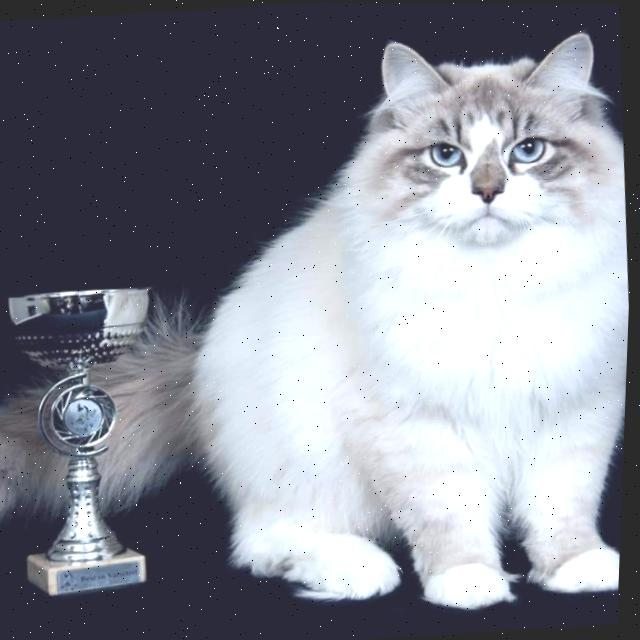Neva Masquerade: (126, 17, 640, 632)
